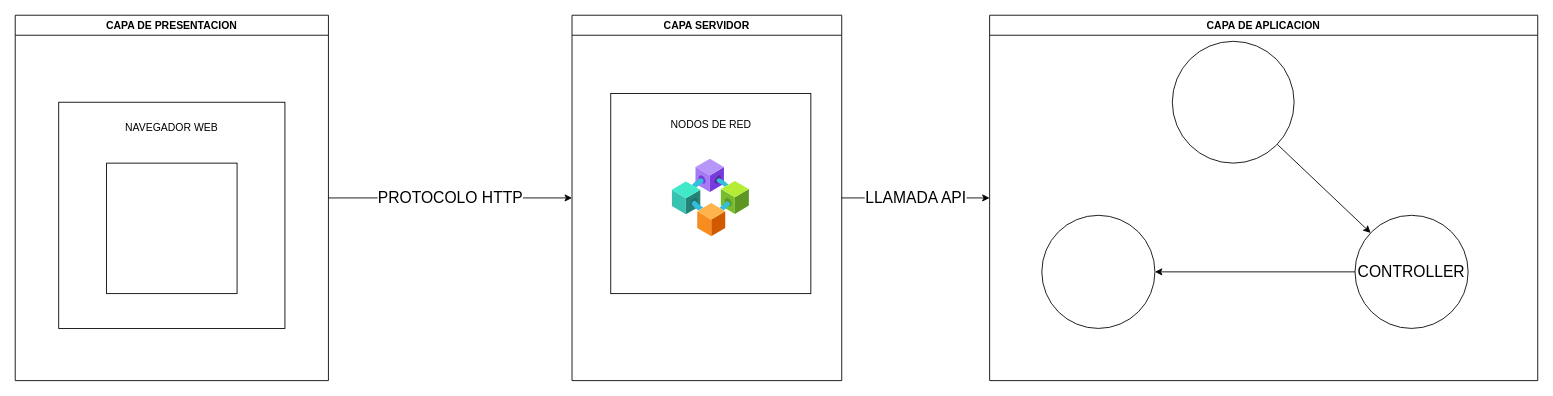
The diagram is 1553 pixels wide and 396 high, and some of its shapes have lost their labels. Here are the shapes that lost their labels. From the top down, the centre of each, then its label:
the point at 1232,101: MODEL
the point at 171,228: VISTAS WEB
the point at 1098,271: VIEW
